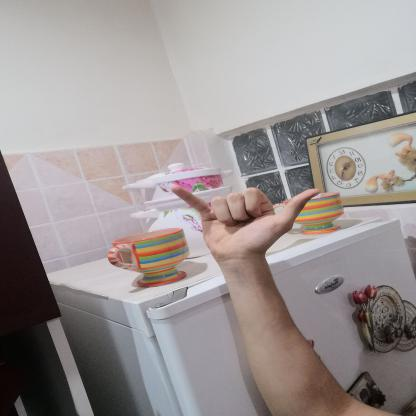YA: (159, 174, 337, 272)
